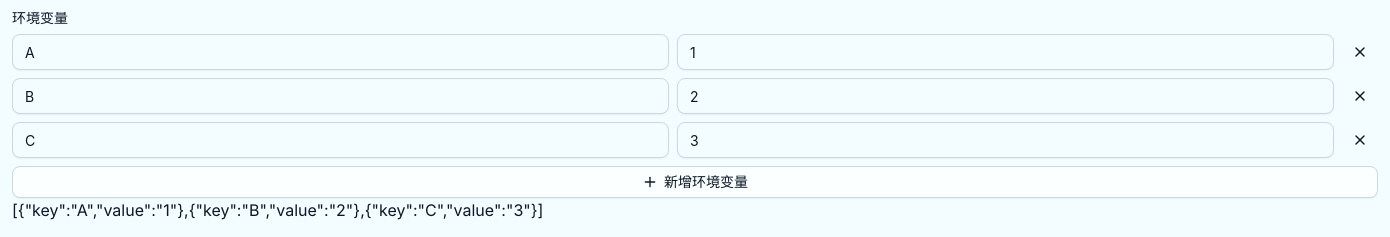
Test: KeyValueField › 交互 › 删除中间行：保留前后两行且顺序稳定
Click the button named "删除". click: (1360, 96)
box: [1342,78,1378,114]
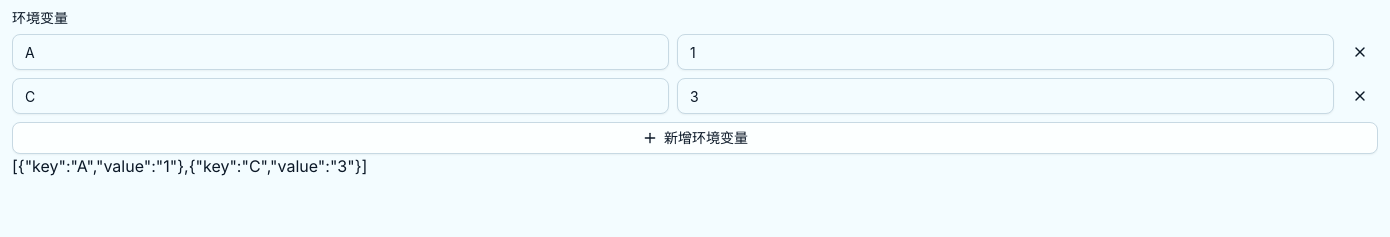
Now the text with test id "env" reads "[{\"key\":\"A\",\"value\":\"1\"},{\"key\":\"C\",\"value\":\"3\"}]", box [12,156,367,176]
